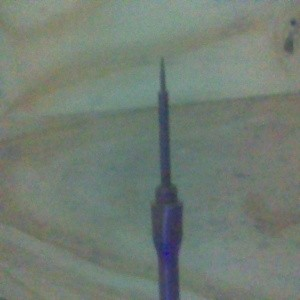solder: (149, 55, 184, 300)
